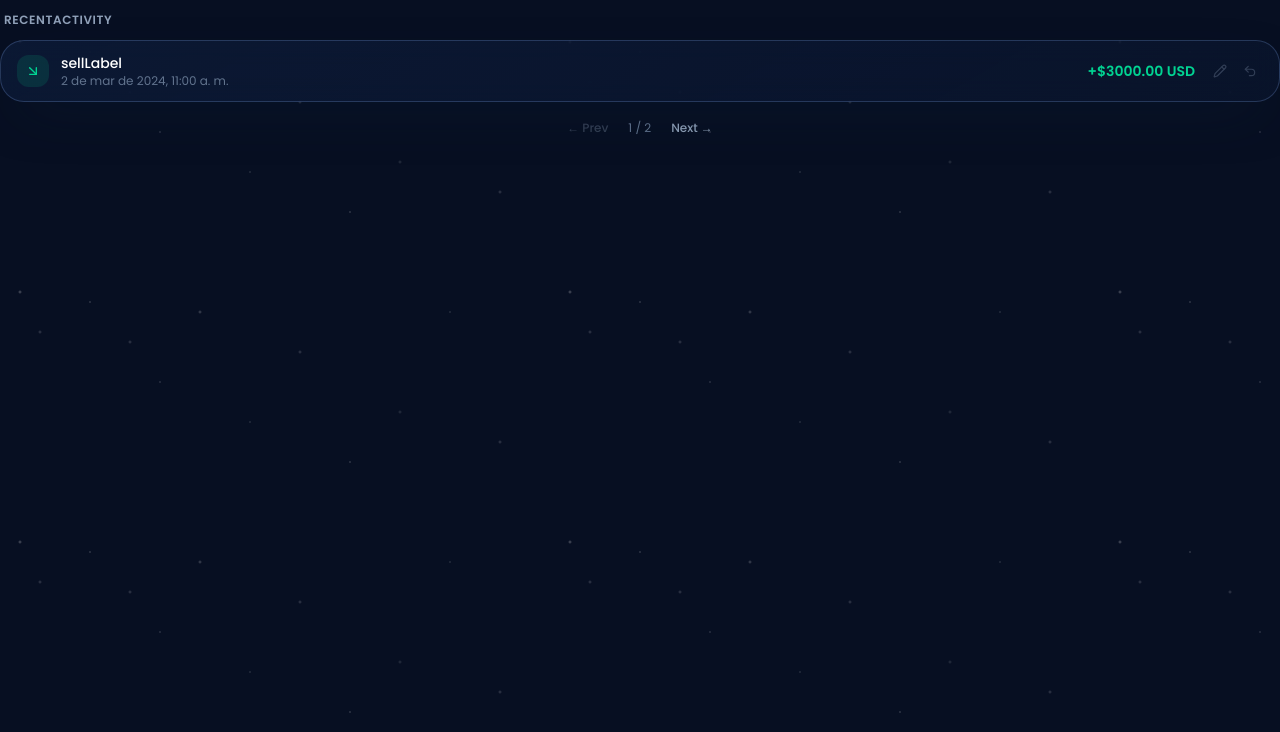
Test case: InvestmentTransactionsList › should render pagination controls when there is more than one page
Expected: the text "1 / 2" is shown, x1=628 y1=120 x2=651 y2=136
Expected: the button with aria-label "Previous page" is disabled, x1=555 y1=114 x2=620 y2=142
Click the button with aria-label "Next page" at (692, 128), box x1=659 y1=114 x2=725 y2=142
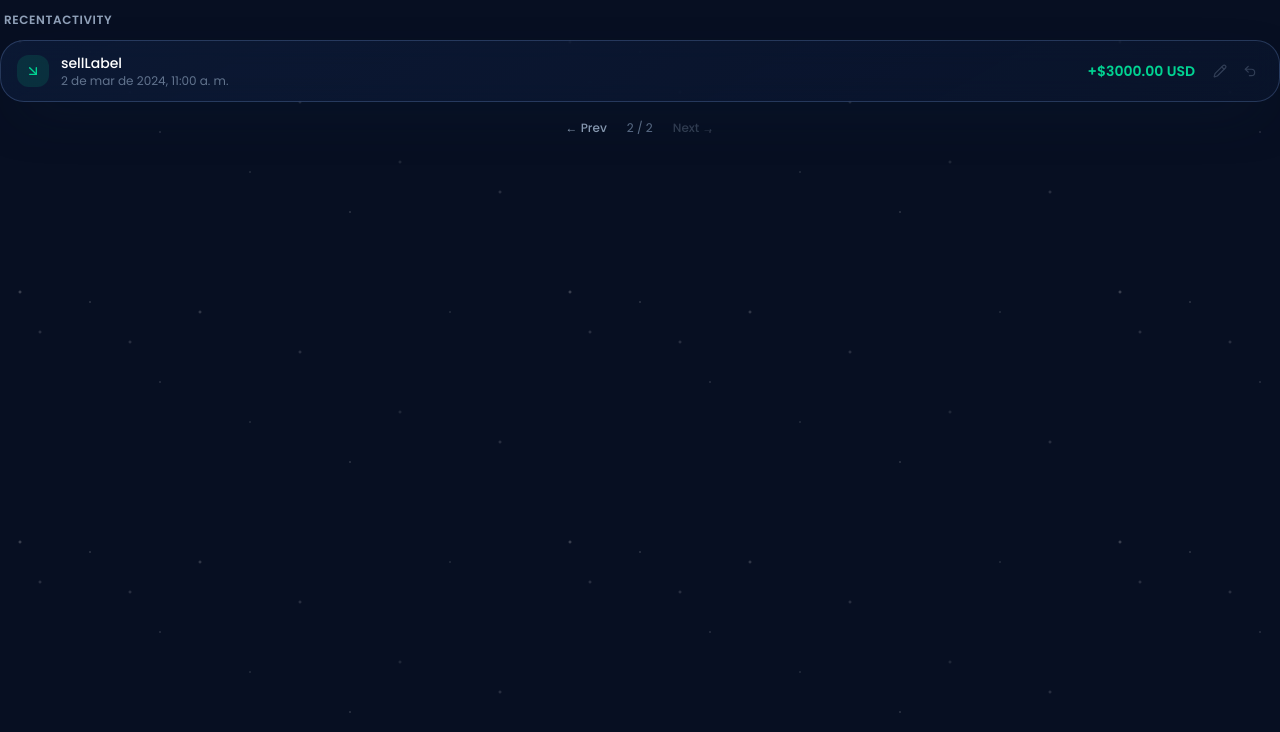
Expected: the text "2 / 2" is shown, x1=627 y1=120 x2=653 y2=136
